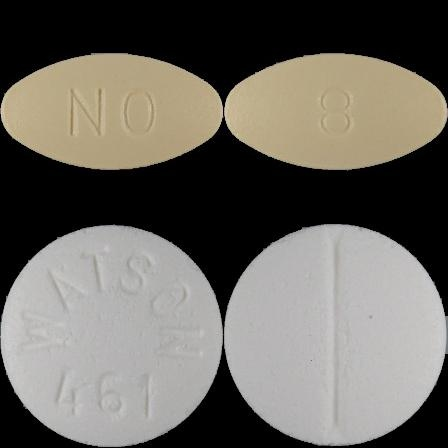51655-803: (0, 0, 224, 224)
